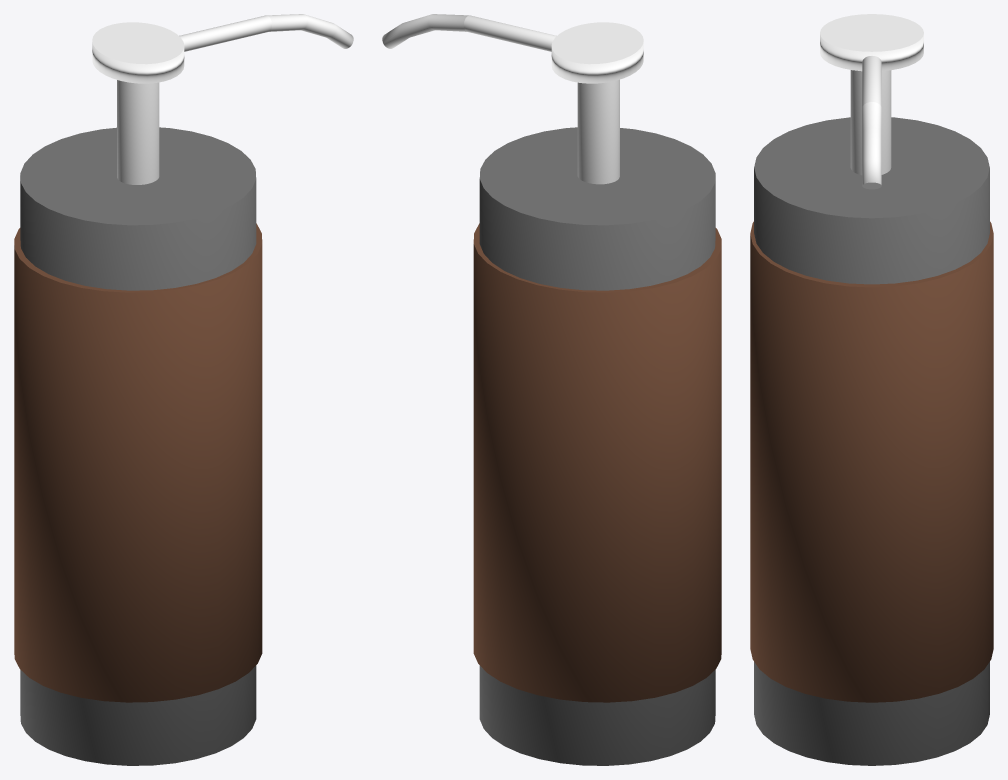
The model's file is hazelnut_syrup.glb.
3 renders of one model, left to right at view 1: azimuth 30°, elevation 25°; view 2: azimuth 150°, elevation 25°; view 3: azimuth 270°, elevation 25°, orthographic.
Visible parts, largest first — view 1: Cylinder.004, Cylinder, Cylinder.002, Cylinder.001, Cylinder.003; view 2: Cylinder.004, Cylinder, Cylinder.002, Cylinder.001, Cylinder.003; view 3: Cylinder.004, Cylinder, Cylinder.002, Cylinder.003, Cylinder.001.
Boxes of the visible parts, x1=… form: Cylinder.004: x1=14, y1=223, x2=262, y2=702; Cylinder: x1=20, y1=127, x2=256, y2=765; Cylinder.002: x1=92, y1=22, x2=184, y2=83; Cylinder.001: x1=117, y1=80, x2=159, y2=184; Cylinder.003: x1=179, y1=14, x2=353, y2=51; Cylinder.004: x1=473, y1=223, x2=721, y2=702; Cylinder: x1=479, y1=127, x2=715, y2=765; Cylinder.002: x1=551, y1=22, x2=643, y2=83; Cylinder.001: x1=577, y1=79, x2=619, y2=184; Cylinder.003: x1=382, y1=14, x2=556, y2=51; Cylinder.004: x1=750, y1=221, x2=993, y2=702; Cylinder: x1=754, y1=117, x2=989, y2=765; Cylinder.002: x1=820, y1=14, x2=923, y2=71; Cylinder.003: x1=862, y1=56, x2=881, y2=189; Cylinder.001: x1=850, y1=70, x2=891, y2=175.
Bounding box in the file's own units: 0.673 × 1.34 × 0.4344.
